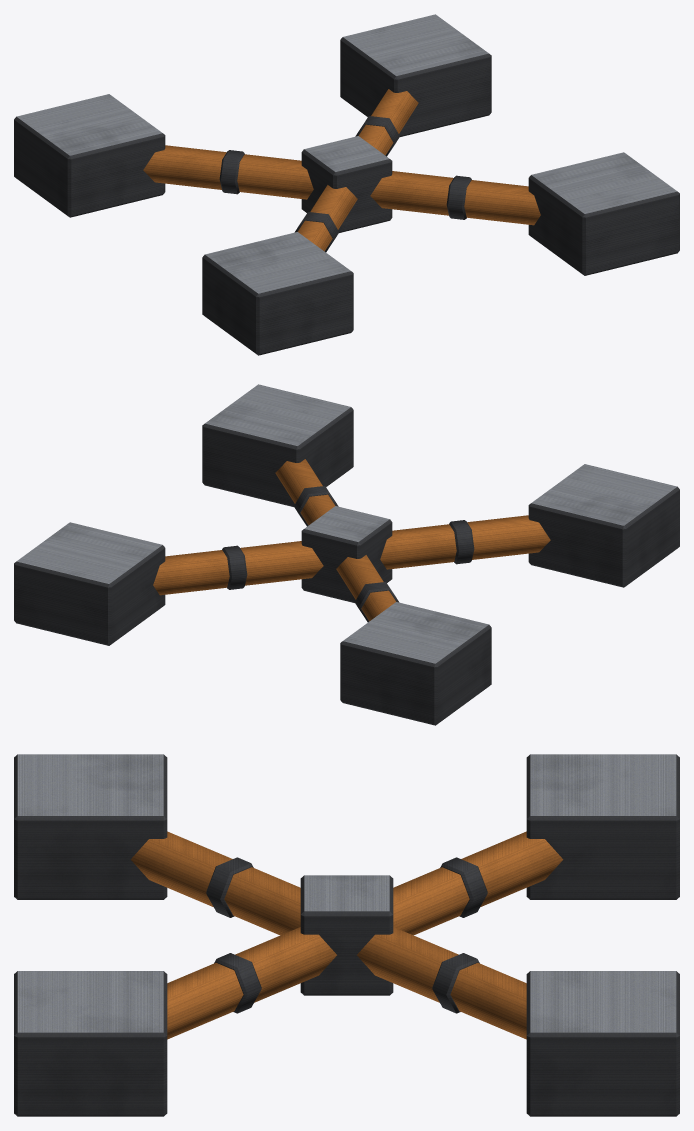
Rendered from R4C_ROD_CROSS_LOD1.glb.
The picture shows the model from 3 angles, top to bottom: view 1: azimuth 30°, elevation 25°; view 2: azimuth 150°, elevation 25°; view 3: azimuth 270°, elevation 25°; orthographic projection. The views are drawn at different scales.
Visible parts, largest first — view 1: R4C_ROD_CROSS_LOD1; view 2: R4C_ROD_CROSS_LOD1; view 3: R4C_ROD_CROSS_LOD1.
Part boxes in pixels (<box>): R4C_ROD_CROSS_LOD1: <box>14,14,679,355</box>; R4C_ROD_CROSS_LOD1: <box>14,384,679,725</box>; R4C_ROD_CROSS_LOD1: <box>14,754,679,1116</box>.
Size of the model in its own units: 1.62 by 0.226 by 1.62.
Materials: 3 (3 with a texture image).
